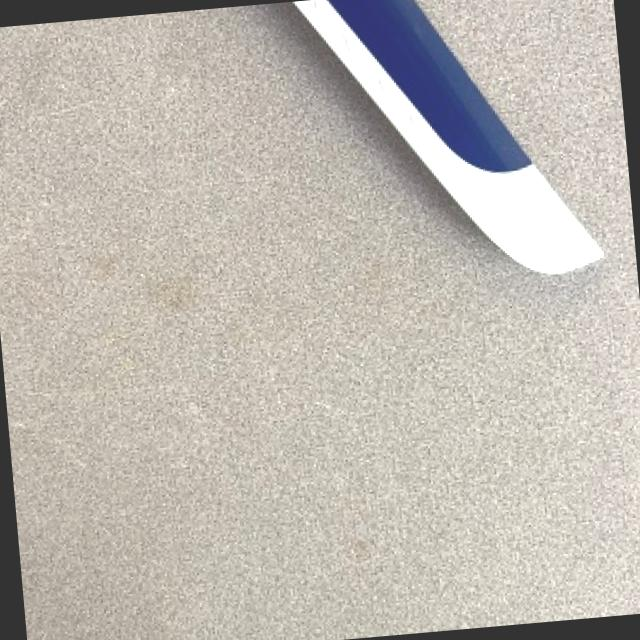healthy: (0, 1, 507, 308), (298, 0, 599, 271)
